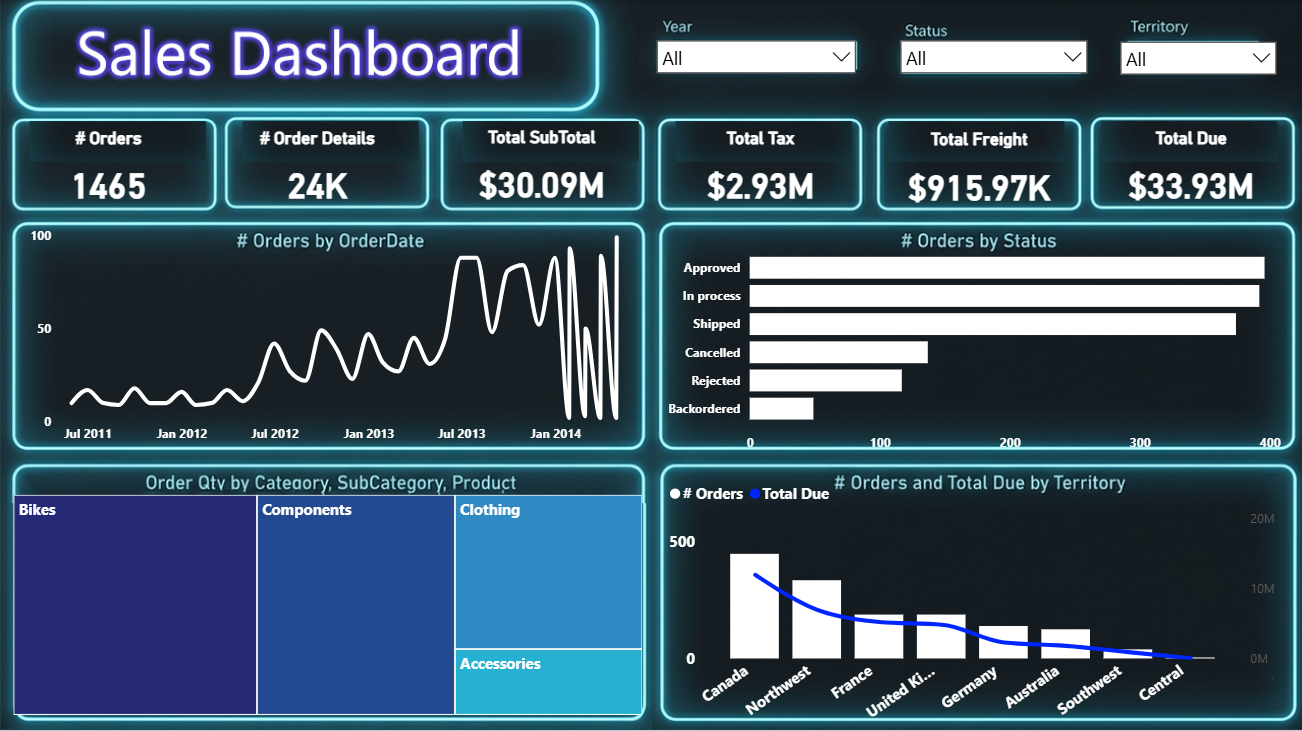

This screenshot's page, from the dashboard's own definition file:
{"tool":"powerbi","page":{"name":"Page 1","canvas":[1280,825],"ordinal":0},"visuals":[{"type":"card","title":"Order Detail ID","fields":{"Values":["Sales.#OrderDetail_ID"]},"box":[17.1,11.4,190,147.1],"z":0},{"type":"card","title":"Order ID","fields":{"Values":["Sales.#OrderID"]},"box":[223.7,11.3,189.5,150.2],"z":1000},{"type":"card","title":"Total Amount","fields":{"Values":["Sales.Total Amount"]},"box":[436.7,11.3,189.5,150.2],"z":2000},{"type":"card","title":"Total Tax","fields":{"Values":["Sales.Total Tax"]},"box":[647.7,10.4,189.5,147.8],"z":3000},{"type":"card","title":"Total Due","fields":{"Values":["Sales.Total Due"]},"box":[1073.7,9.7,190,148.6],"z":4000},{"type":"card","title":"Tota Freight","fields":{"Values":["Sales.Total Freight"]},"box":[860.7,10.4,189.5,147.8],"z":5000},{"type":"pieChart","title":"Order ID by Status","fields":{"Y":["Measures (2).#OrderID"],"Category":["Sales.Status"]},"box":[648,176.3,615.7,312.9],"z":6000},{"type":"lineChart","title":"Order ID by Year, Quarter, Month and Day","fields":{"Y":["Measures (2).#OrderID"],"Category":["Sales.OrderDate.Variation.Date Hierarchy.Year","Sales.OrderDate.Variation.Date Hierarchy.Quarter","Sales.OrderDate.Variation.Date Hierarchy.Month","Sales.OrderDate.Variation.Date Hierarchy.Day"]},"box":[14.3,175.7,617.1,312.9],"z":7000},{"type":"lineClusteredColumnComboChart","title":"Order ID and Total Amount by Territory","fields":{"Category":["Sales.Territory"],"Y":["Measures (2).Total Amount"],"Y2":["Measures (2).#OrderID"]},"box":[14.3,504.3,617.1,321.4],"z":8000},{"type":"treemap","title":"Order Detail_ID by Product Category","fields":{"Group":["Sales.ProductCategory","Sales.ProductSubCategory","Sales.Product"],"Values":["Measures (2).#OrderDetail_ID"]},"box":[648,504,616,321],"z":8001}]}

Visuals, with their boxes on the page's 1280x825 design canvas (x1, y1, x2, y2). These are canvas units, not pixel positions in the 1302x731 screenshot, which may show the page scaled, cropped or inside an application window:
"Order Detail ID" card: l=17, t=11, r=207, b=158
"Order ID" card: l=224, t=11, r=413, b=162
"Total Amount" card: l=437, t=11, r=626, b=162
"Total Tax" card: l=648, t=10, r=837, b=158
"Total Due" card: l=1074, t=10, r=1264, b=158
"Tota Freight" card: l=861, t=10, r=1050, b=158
"Order ID by Status" pieChart: l=648, t=176, r=1264, b=489
"Order ID by Year, Quarter, Month and Day" lineChart: l=14, t=176, r=631, b=489
"Order ID and Total Amount by Territory" lineClusteredColumnComboChart: l=14, t=504, r=631, b=826
"Order Detail_ID by Product Category" treemap: l=648, t=504, r=1264, b=825
